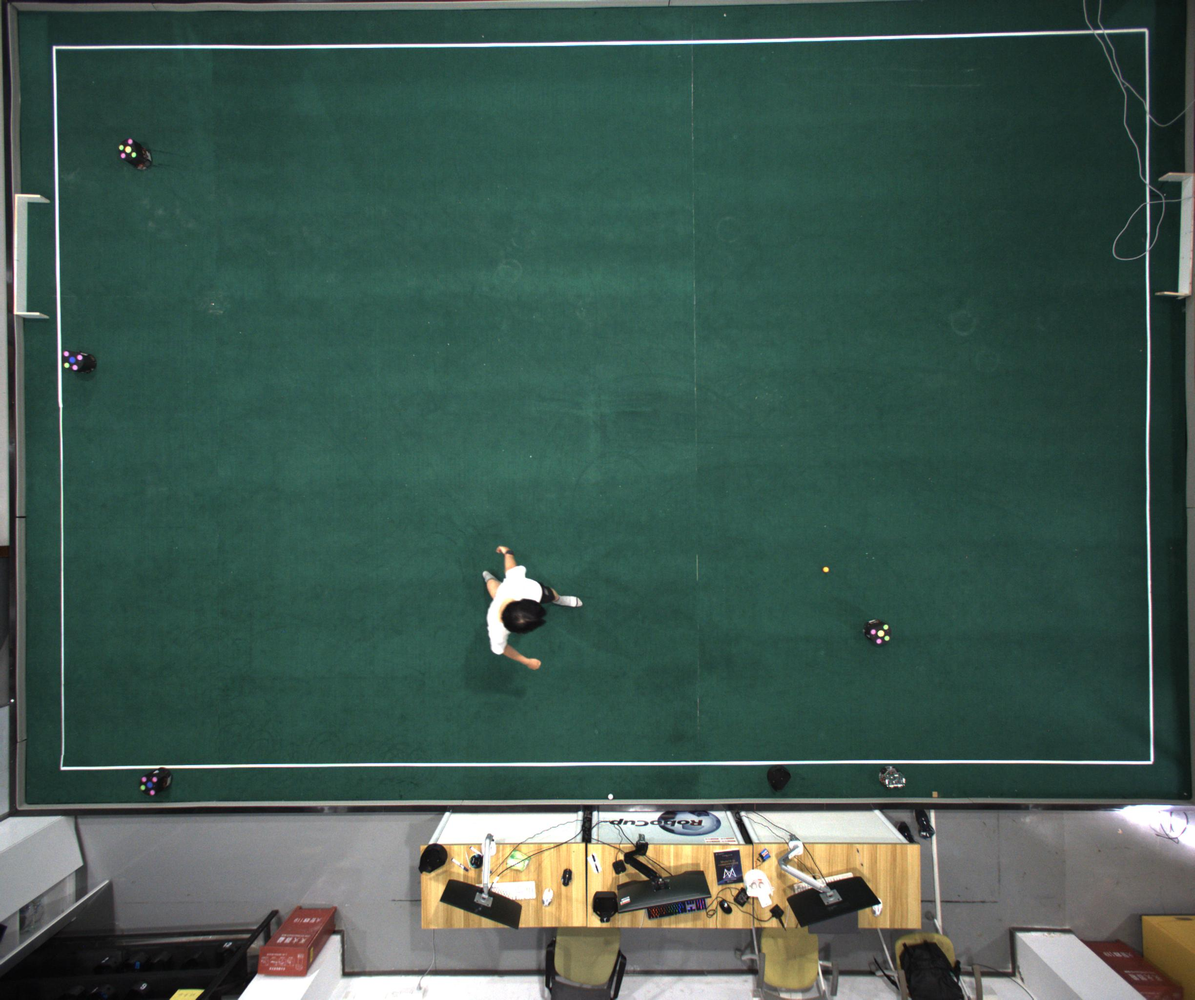ball: (823, 566, 828, 572)
blue_bot: (139, 775, 162, 795), (63, 350, 84, 371)
yellow_bot: (870, 623, 892, 646), (119, 137, 138, 161)
